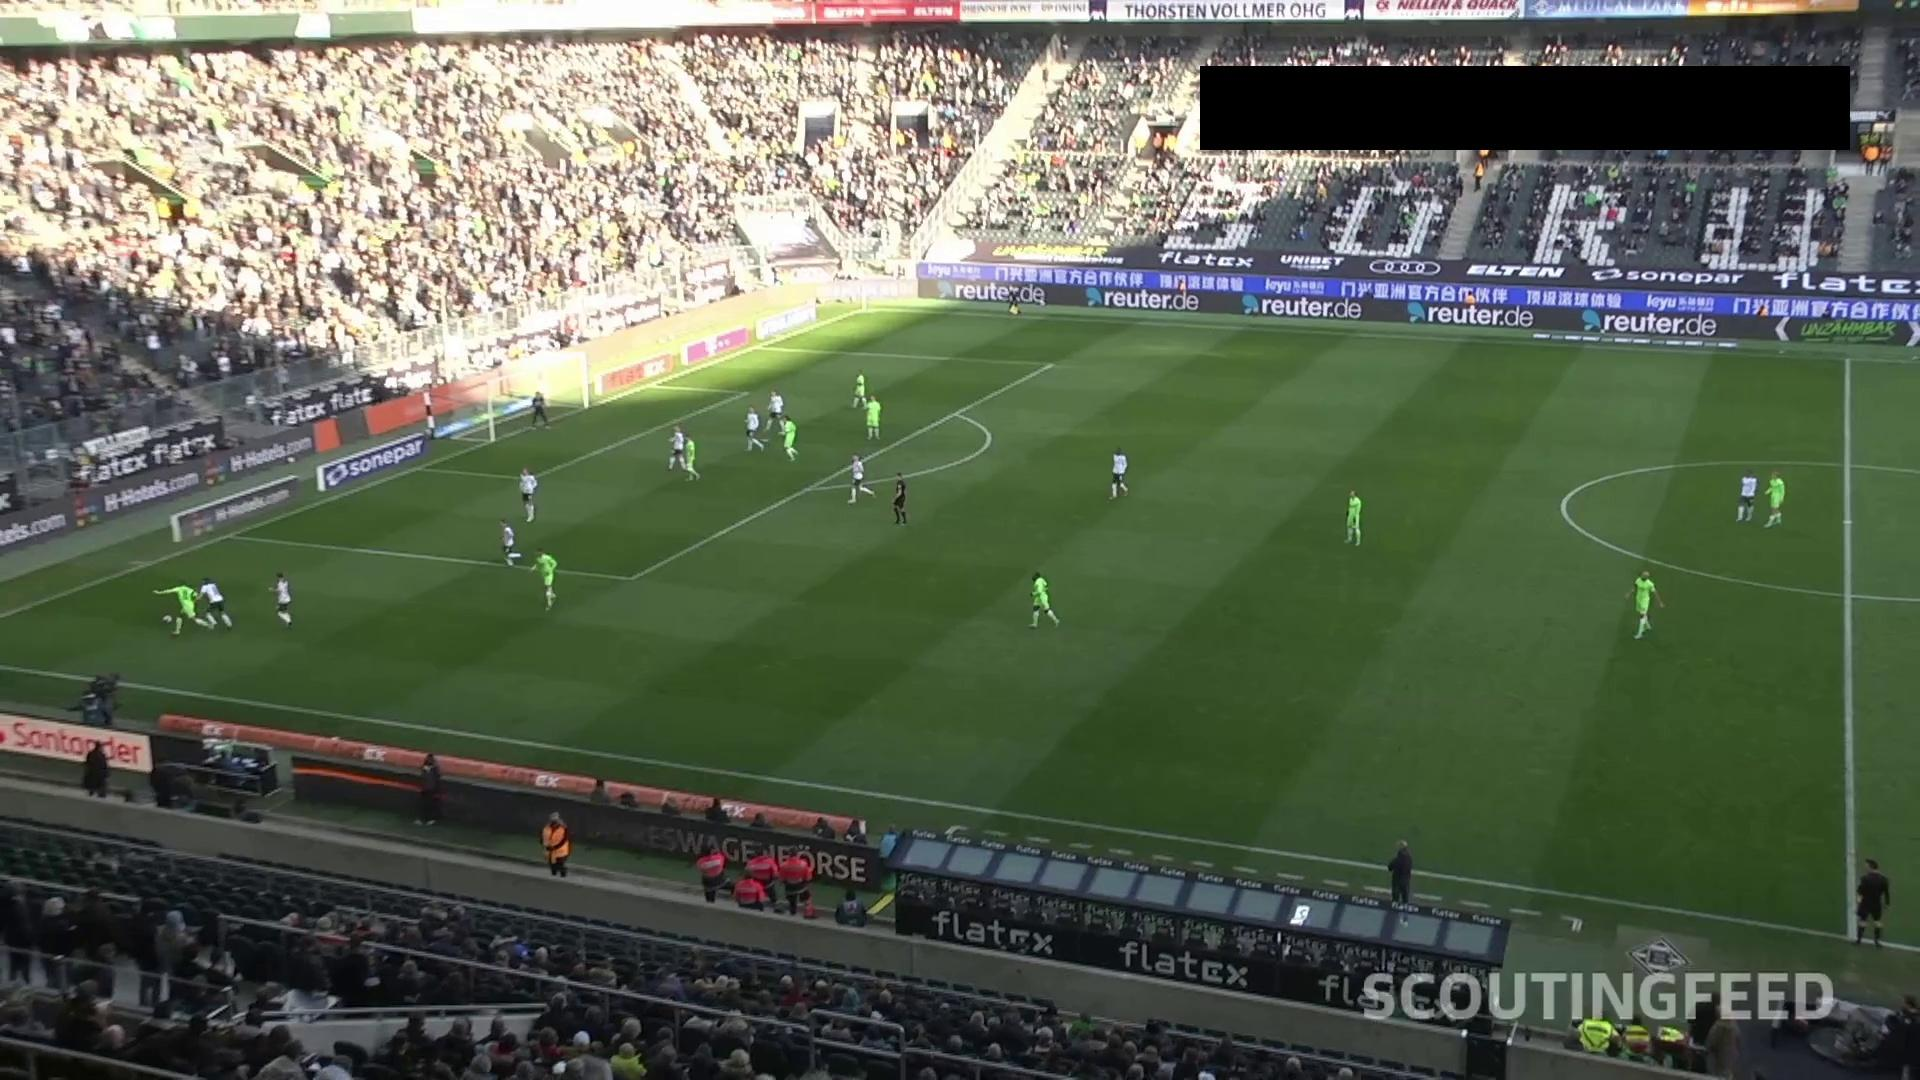Location-of-ball: (156, 607, 179, 626)
